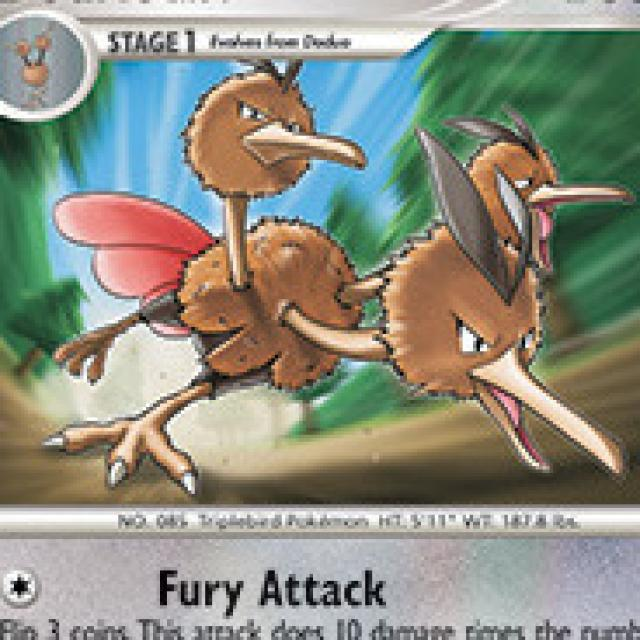Dodrio: (125, 74, 632, 444)
